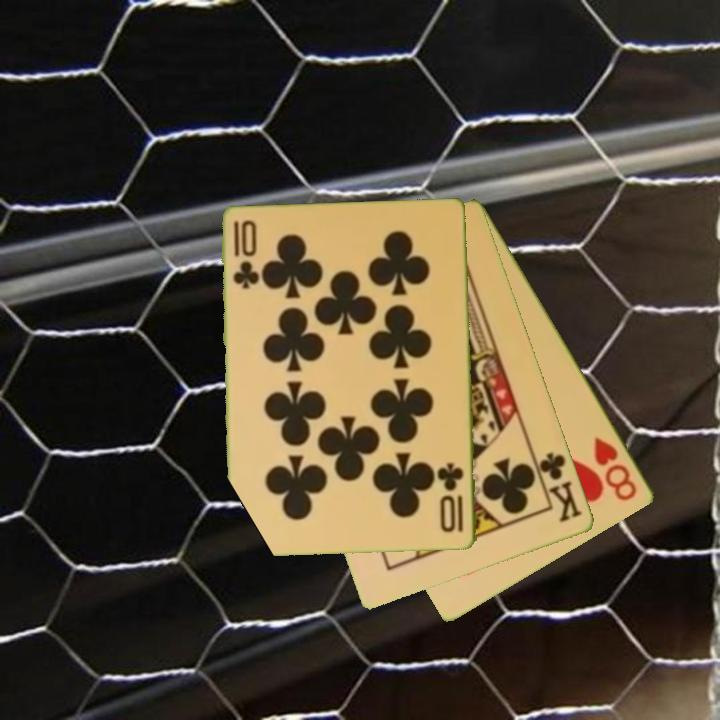10c: (436, 460, 467, 536), (230, 217, 259, 292)
8h: (591, 433, 641, 504)
Kc: (531, 449, 586, 526)
